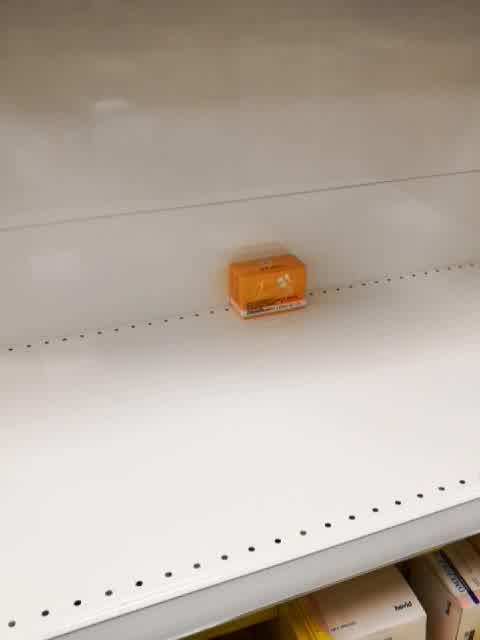jasminetea: (227, 252, 308, 322)
